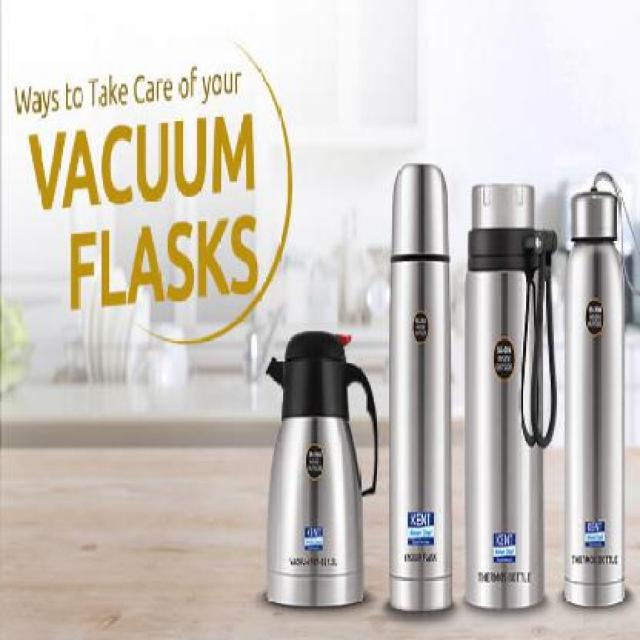Drinking: (461, 163, 552, 611), (374, 150, 454, 624), (557, 173, 629, 621), (266, 319, 362, 615)
